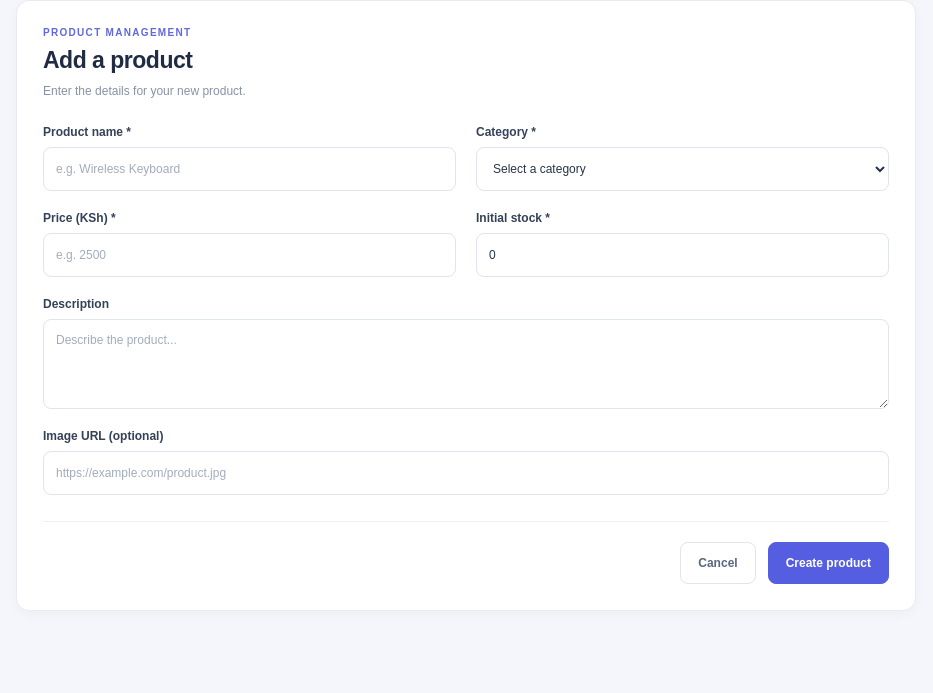
ProductForm component › rejects negative or fractional initial stock
Step 1. Select "Electronics" in the dropdown labelled "Category *" → (682, 169), box [476,147,889,191]
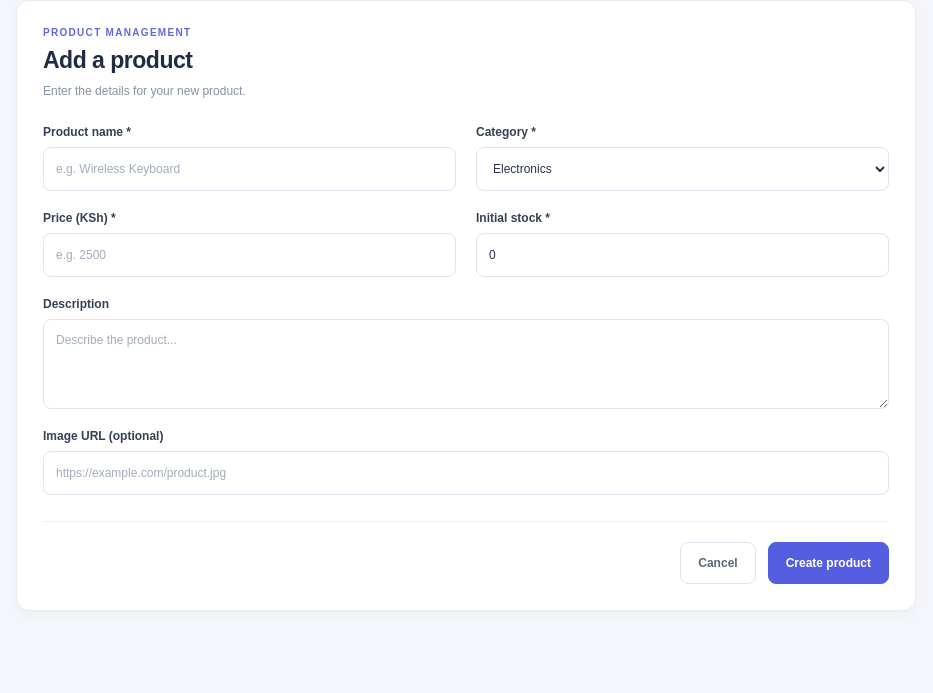
Step 2. Type "Keyboard" into the field labelled "Product name *" → (250, 169), box [43,147,456,191]
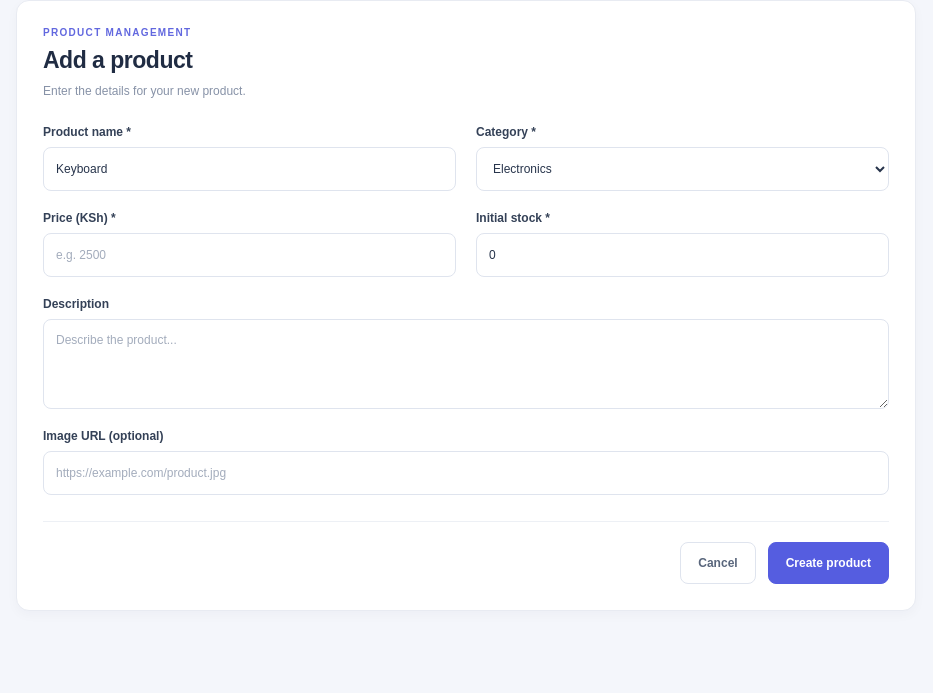
Step 3. Type "2500" into the number field labelled "Price (KSh) *" → (250, 255), box [43,233,456,277]
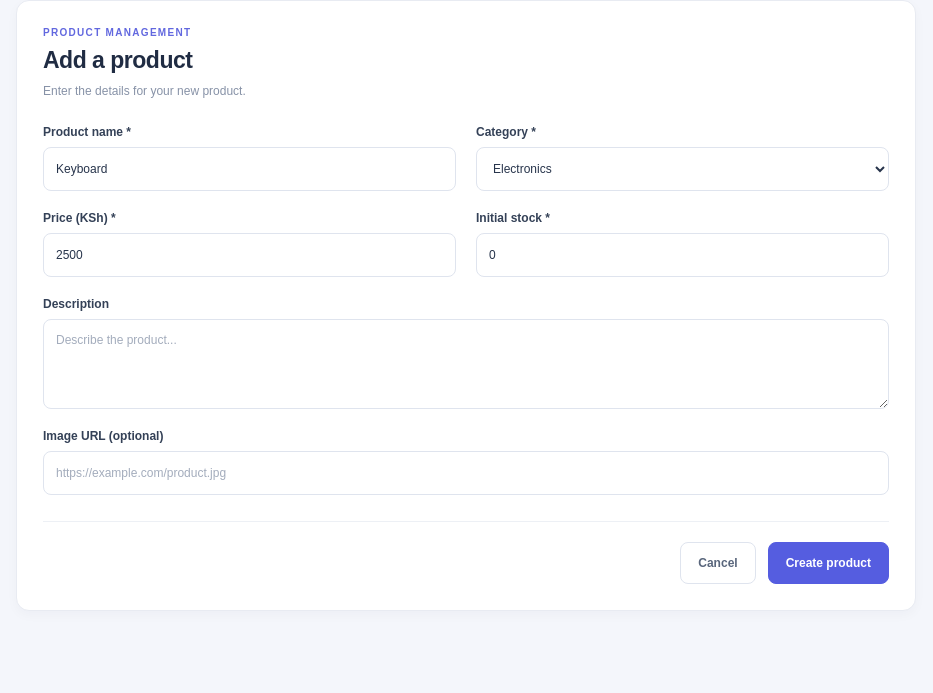
Step 4. Replace the text in the number field labelled "Initial stock *" with "2.5" → (682, 255), box [476,233,889,277]
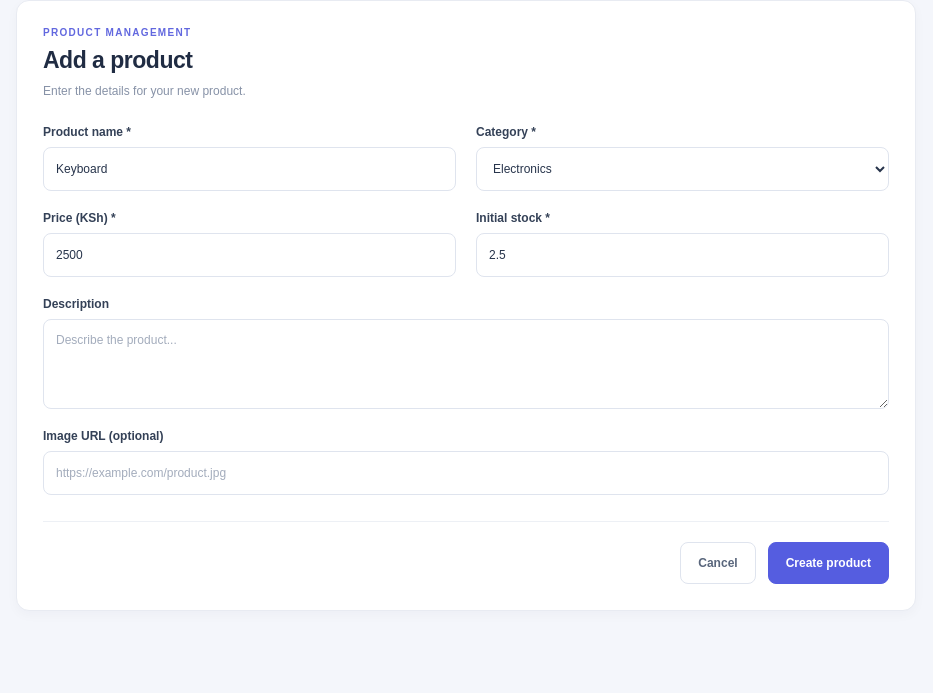
Step 5. Submit the form labelled "Product name"
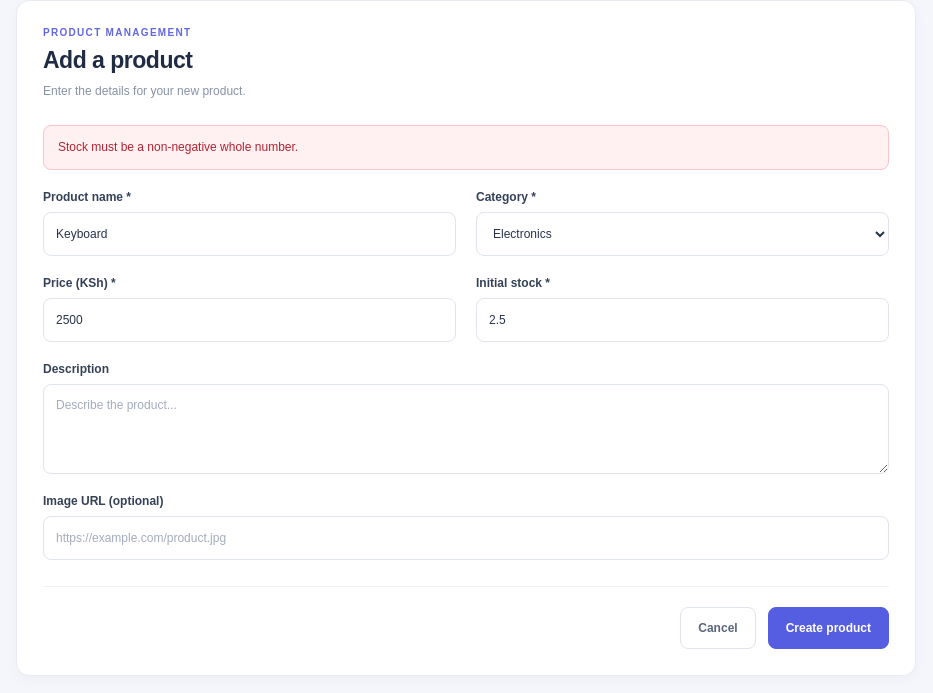
Check: the message reads "Stock must be a non-negative whole number.", box [58,140,298,154]
